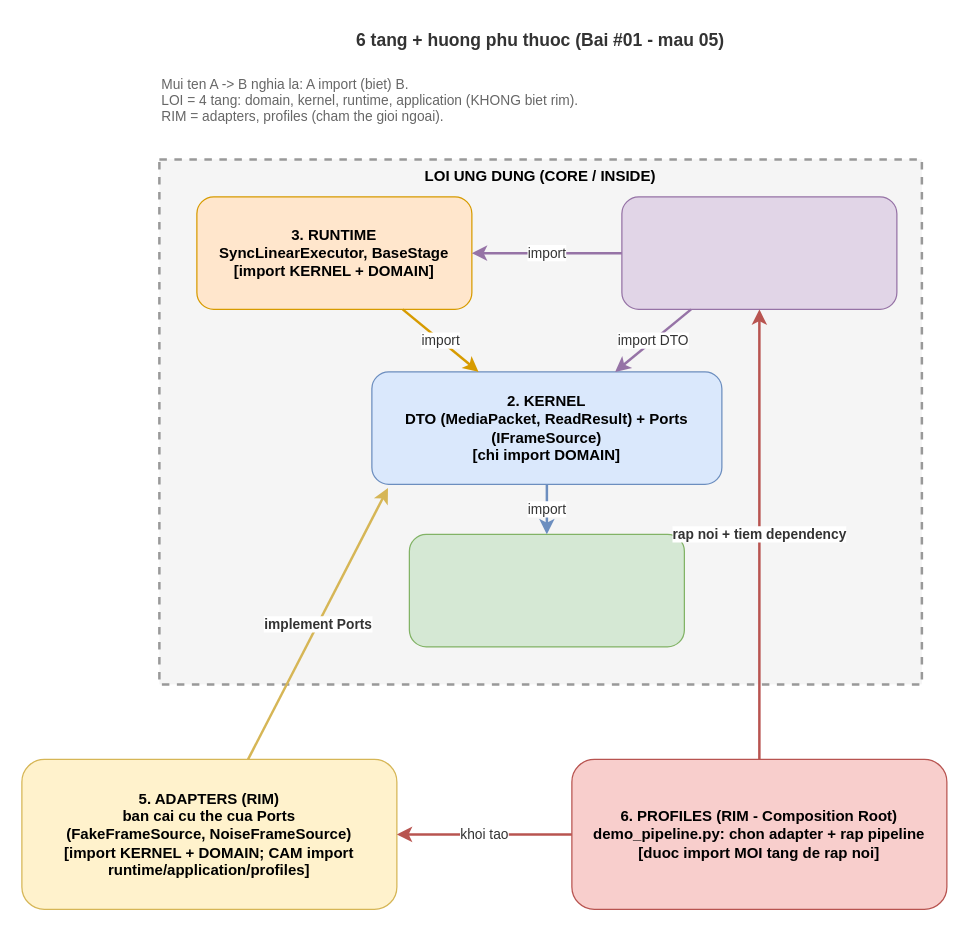
Some shapes in this 969 by 931 pixel diagram are drawn without their labels. Each missing label, with the box of its shape:
1. DOMAIN logic + gia tri thuan (BBox) [khong import bat ky ai]: (408, 533, 684, 647)
4. APPLICATION Supervisor (se co o #09) [import RUNTIME + KERNEL + DOMAIN]: (621, 196, 897, 309)
